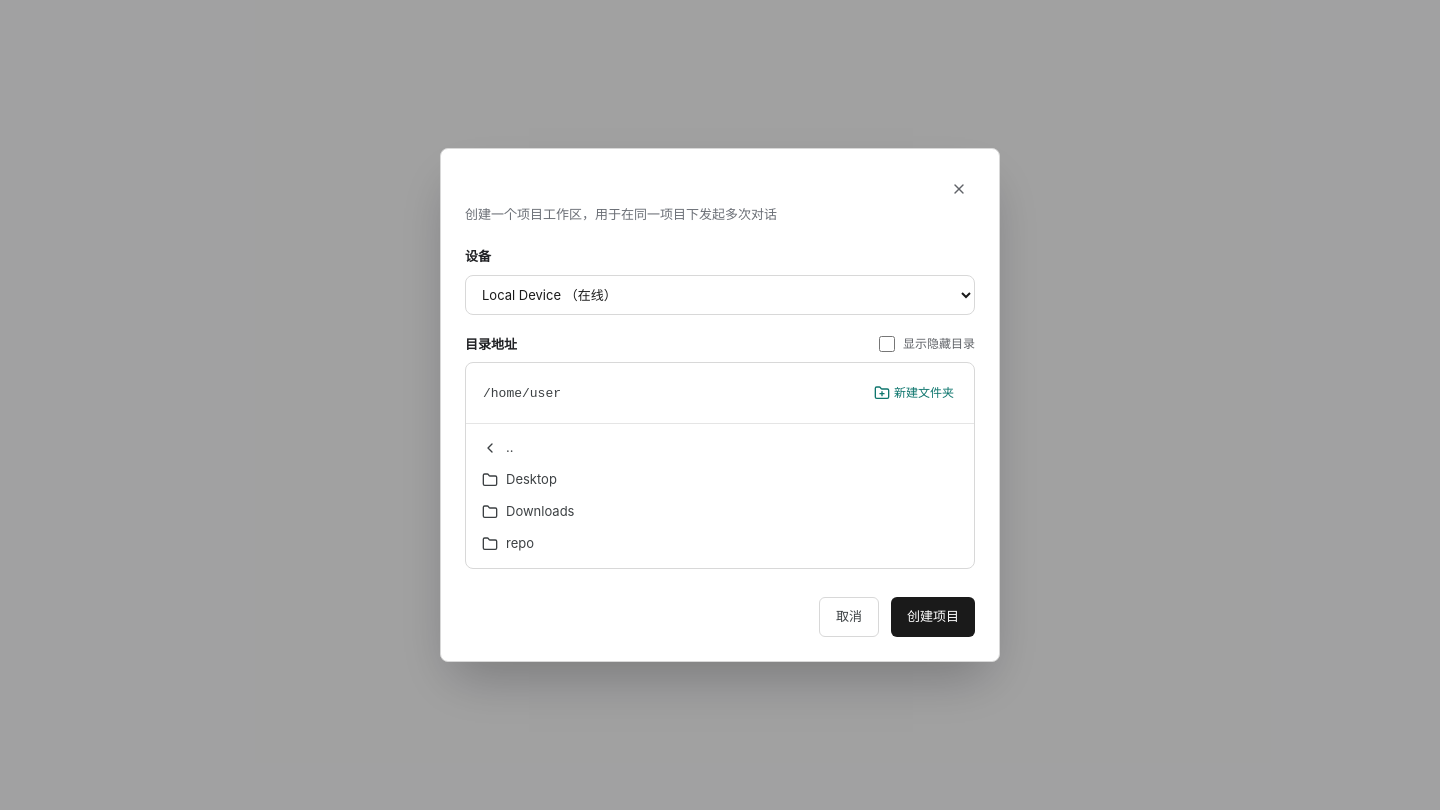
Test case: ProjectCreateDialog › filters parent directory entries when the path is typed partially
Expected: the text "repo" is shown, [506,535,534,551]
Replace the text in the field with test id "project-directory-path-input" with "/home/user/D" at (668,393), box [478,377,858,409]
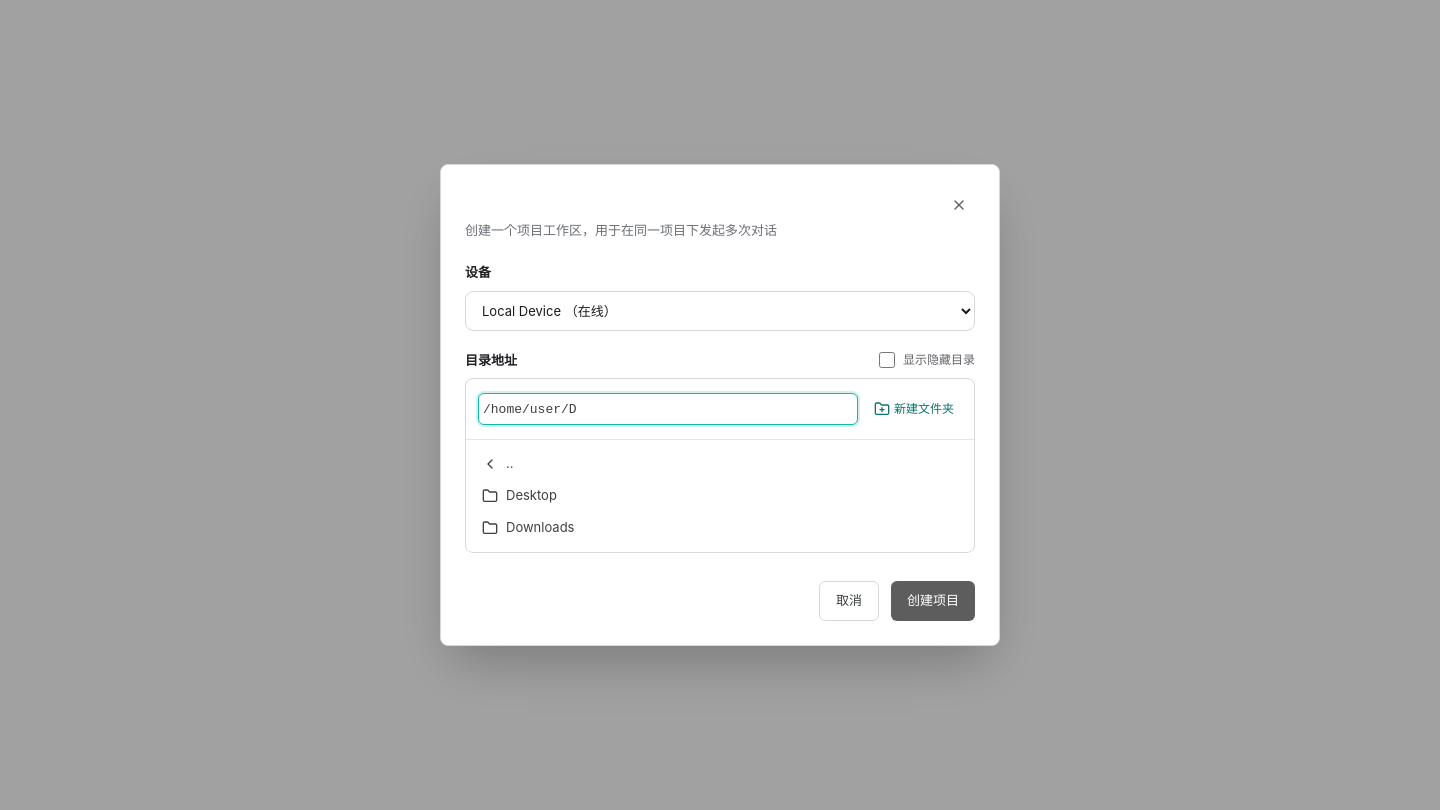
Expected: the text "Desktop" is shown, [506,487,557,503]
Expected: the button "repo" is gone
